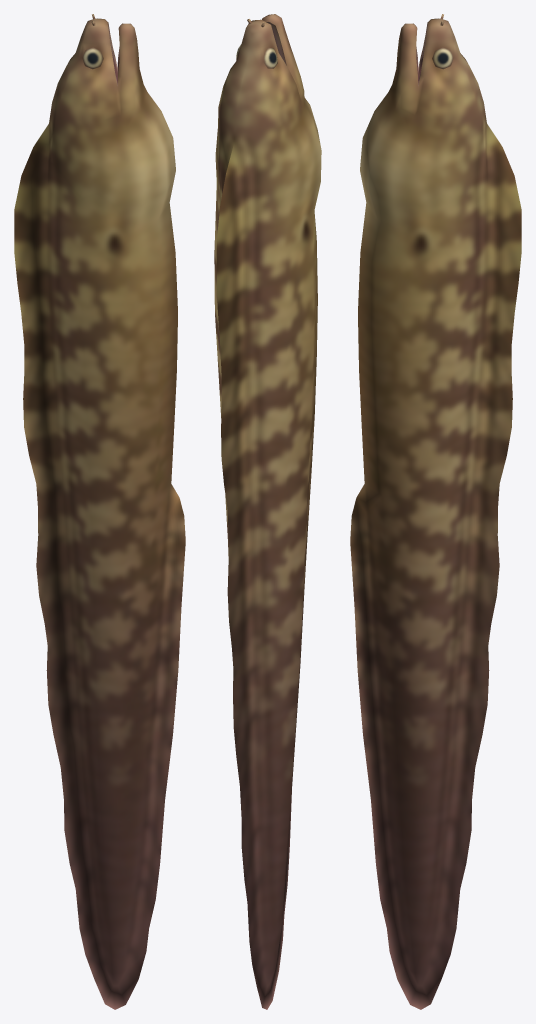
Rendered from moray-eel.glb.
3 renders of one model, left to right at view 1: azimuth 90°, elevation 25°; view 2: azimuth 150°, elevation 25°; view 3: azimuth 270°, elevation 25°, orthographic.
Parts seen in each view (by area): view 1: FishUtsubo__mUtsubo; view 2: FishUtsubo__mUtsubo; view 3: FishUtsubo__mUtsubo.
Part boxes in pixels (x1=…): FishUtsubo__mUtsubo: x1=14, y1=14, x2=185, y2=1009; FishUtsubo__mUtsubo: x1=214, y1=14, x2=321, y2=1009; FishUtsubo__mUtsubo: x1=350, y1=14, x2=521, y2=1009.
Bounding box in the file's own units: 0.1107 × 1.2 × 0.1885.
Materials: 1 (1 with a texture image).
